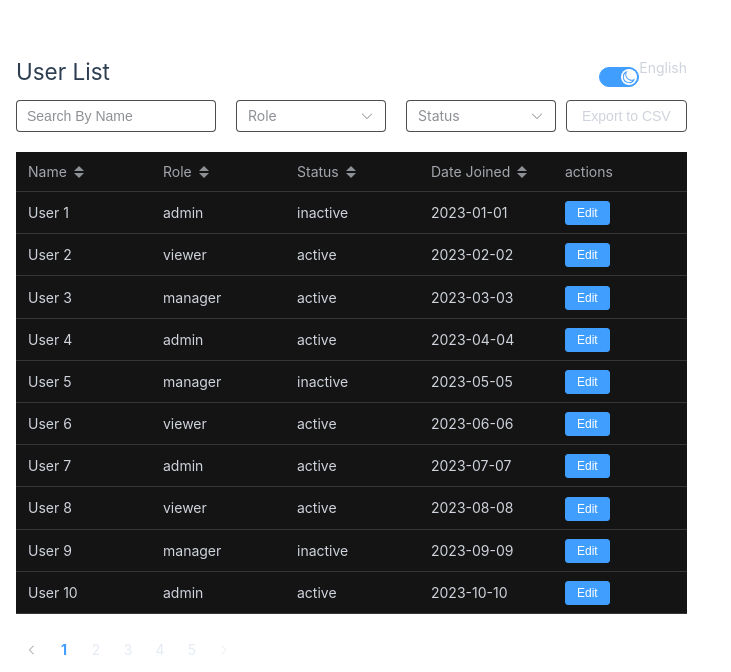
Test case: User Management Dashboard E2E Tests › navigates to user detail and edits a user
Click the button "Edit" next to "2023-01-01": (588, 213) [565,201,610,225]
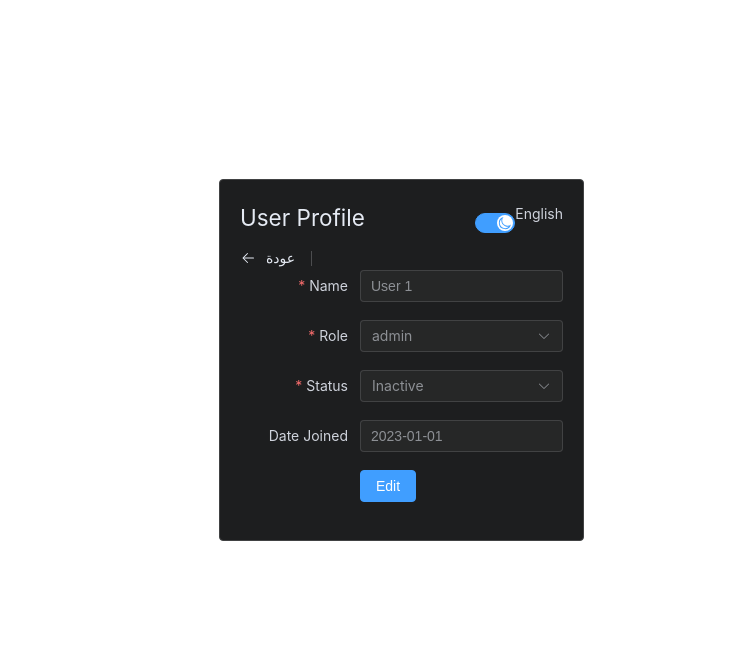
Expected: the element that starts with "User Profile" is shown, [219,179,584,541]
Click the button "Edit": (388, 486) [360,470,416,502]
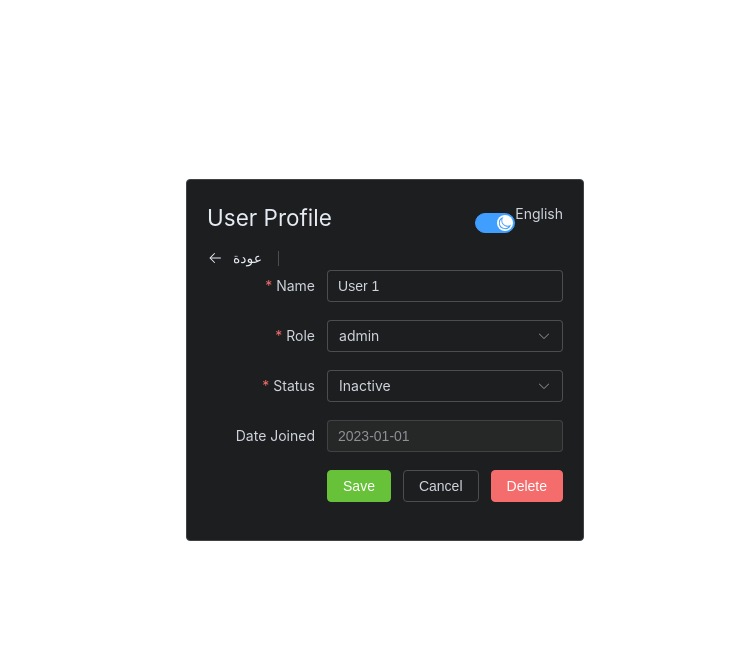
In the field labelled "Name": (445, 286) [338,271,552,301], type "Updated User"
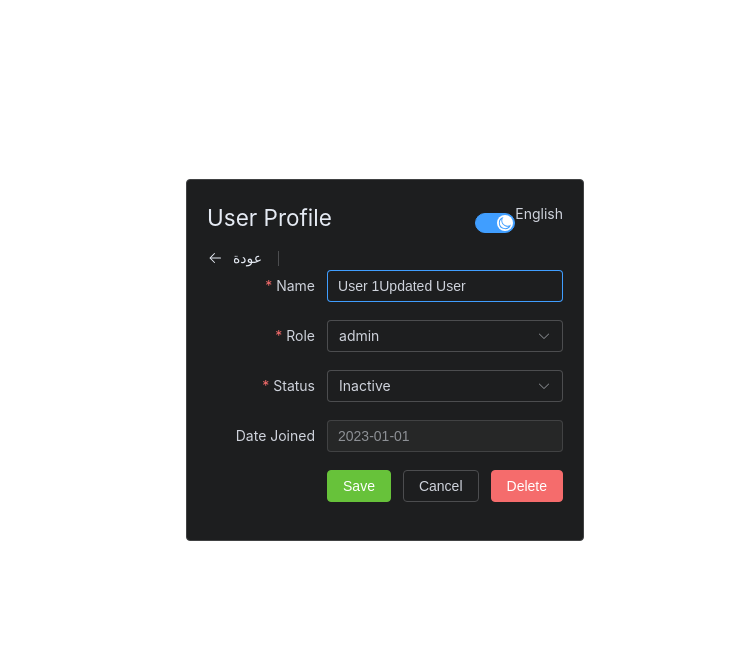
Click the button "Save": (359, 486) [327,470,391,502]
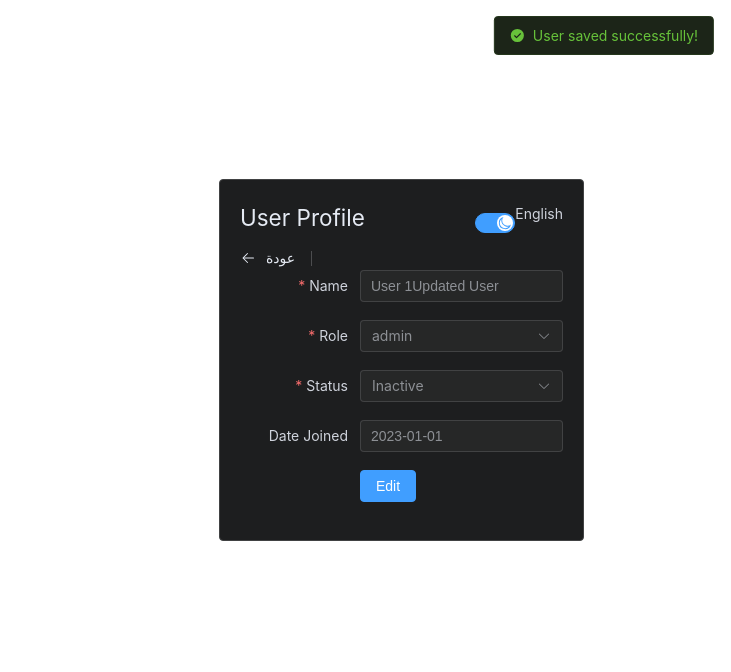
Expected: the text "User saved successfully!" is shown, [533,28,698,42]
